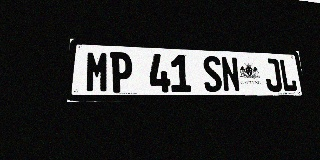1: (170, 54, 191, 92)
4: (149, 53, 171, 92)
J: (263, 58, 283, 92)
L: (278, 59, 298, 92)
M: (85, 51, 109, 93)
N: (220, 56, 241, 92)
P: (110, 52, 133, 93)
S: (202, 56, 223, 92)
